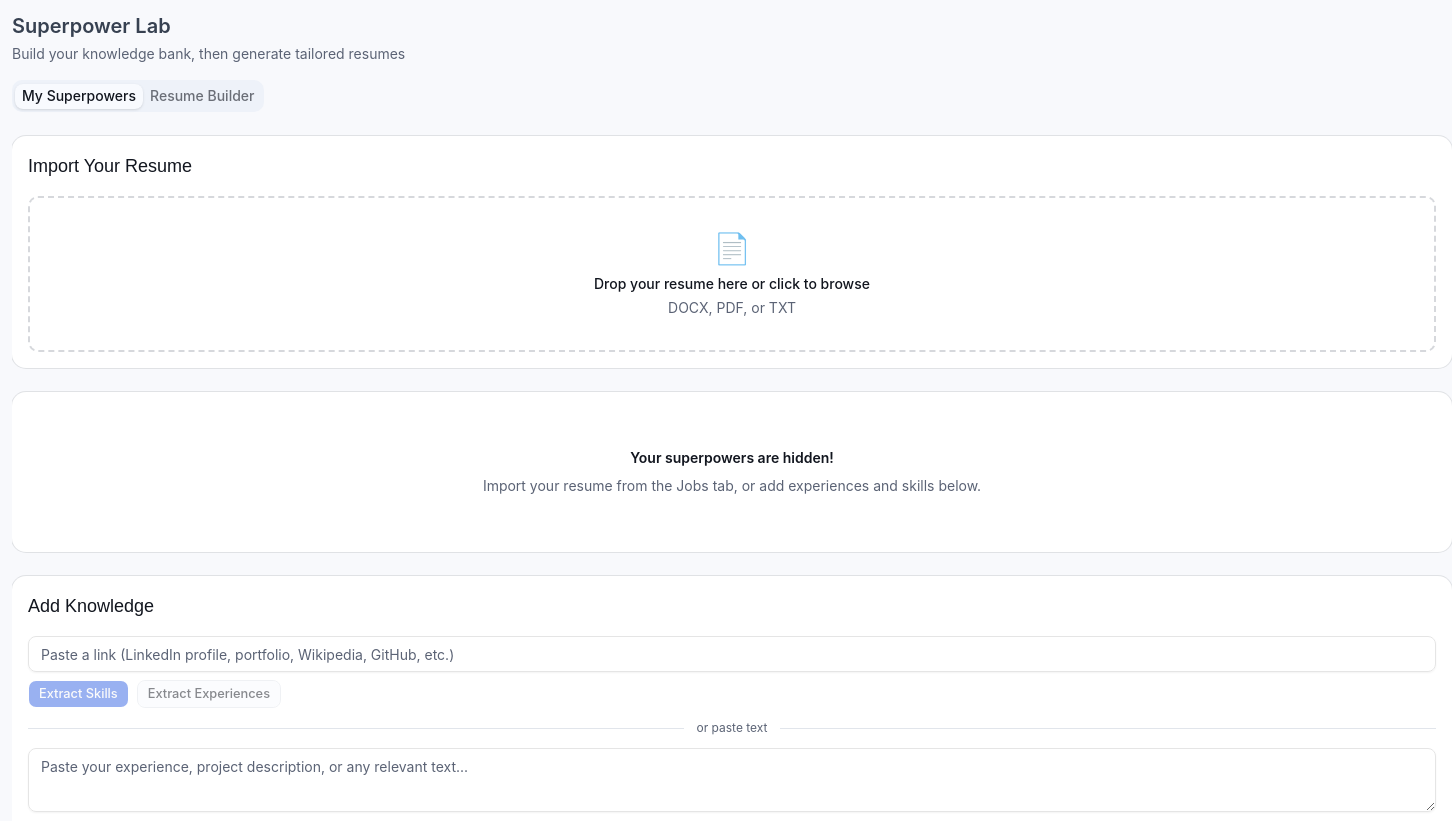
Scenario: Resume Builder Tab — State Independence › switching to Resume Builder shows job selection
The width and height of the screenshot is (1452, 821).
Click the tab "Resume Builder" at (202, 96), box [143,84,261,108]
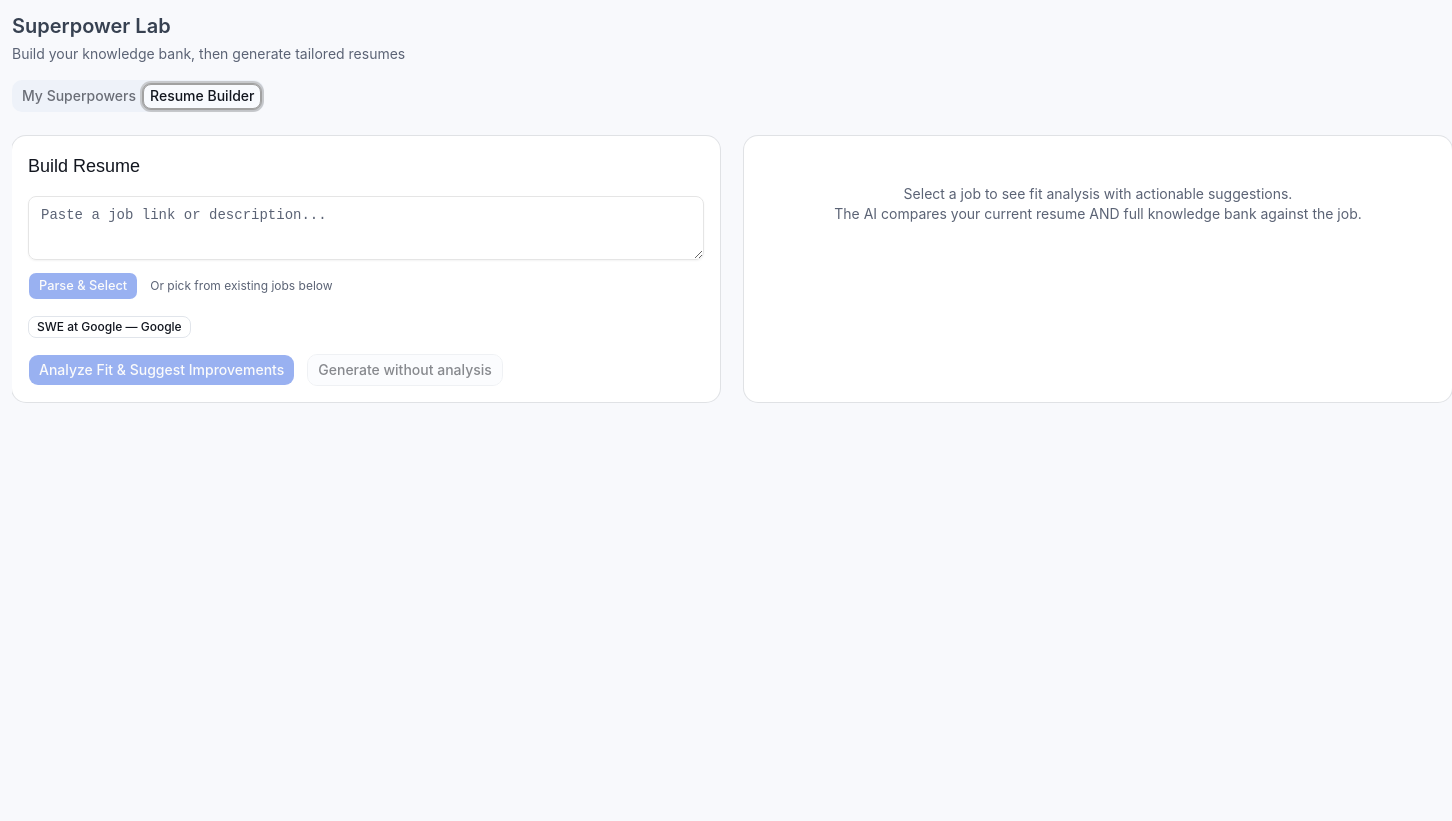
Expected: the text box with placeholder "Paste a job link or description..." is shown, [28,196,704,260]
